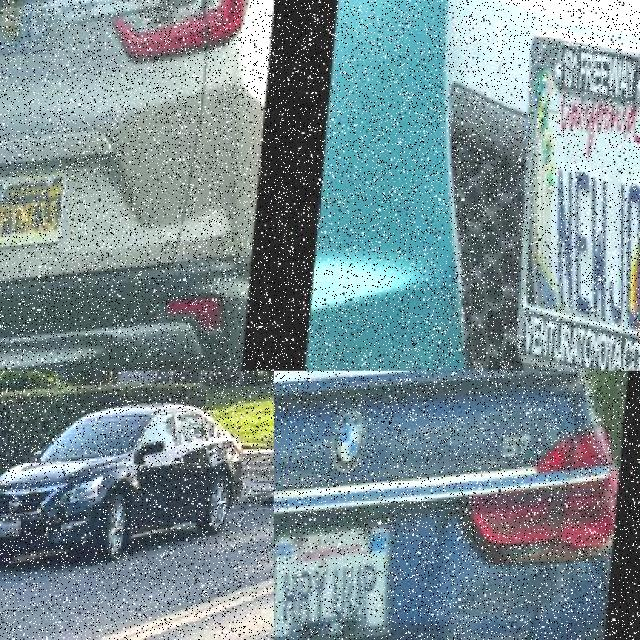licenseplate: (506, 29, 640, 371), (274, 523, 398, 640), (0, 170, 74, 258), (2, 520, 26, 538)
